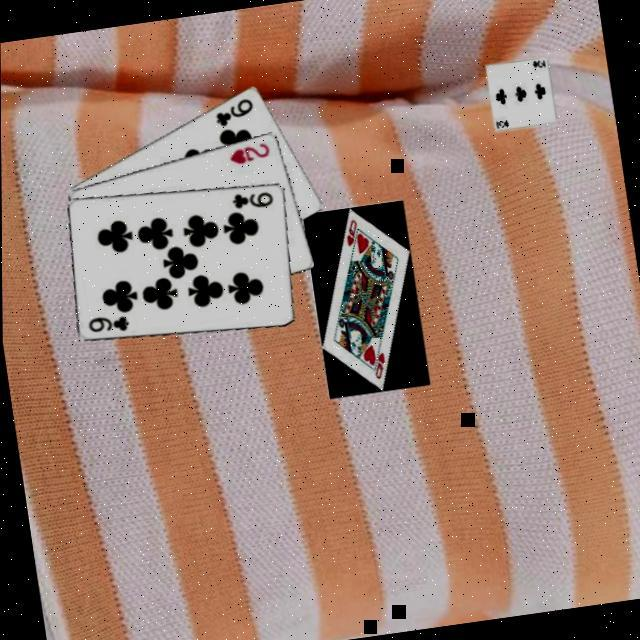2H: (227, 136, 276, 166)
9C: (211, 92, 260, 128), (86, 308, 134, 337), (230, 183, 278, 210)
